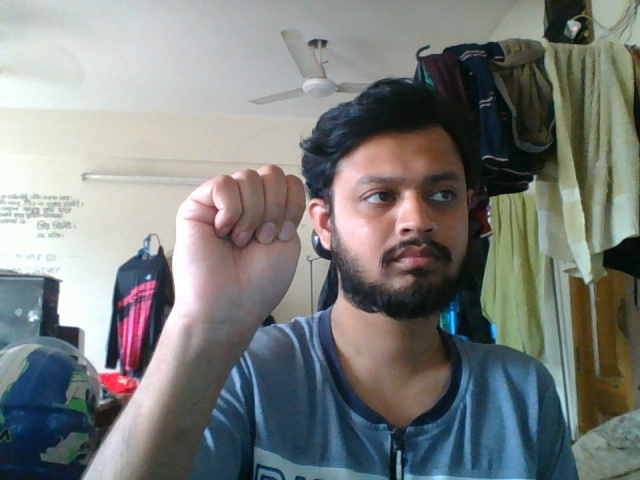to: (164, 161, 316, 347)
